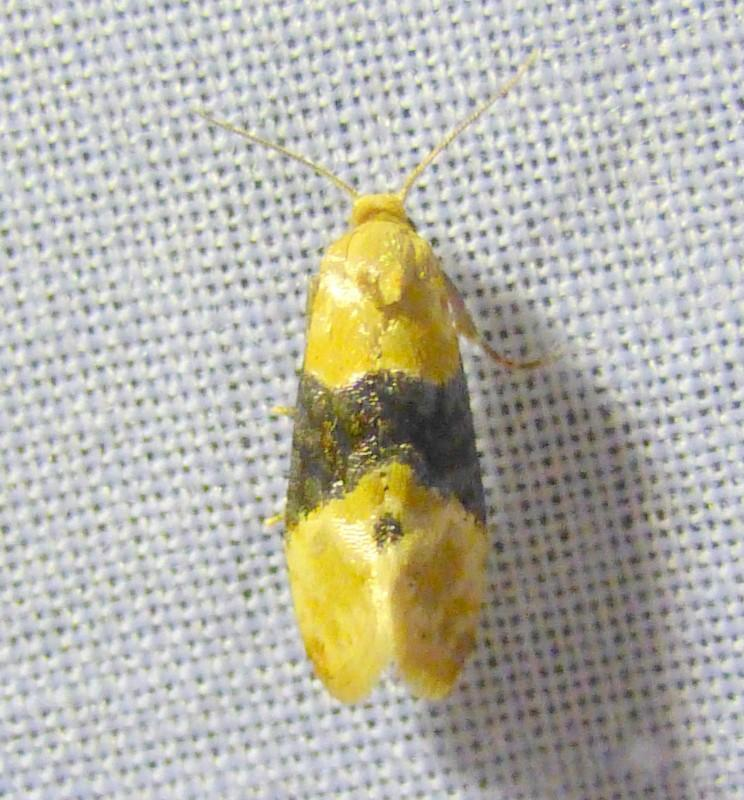Eupoecilia Ambiguella: (188, 44, 562, 708)
